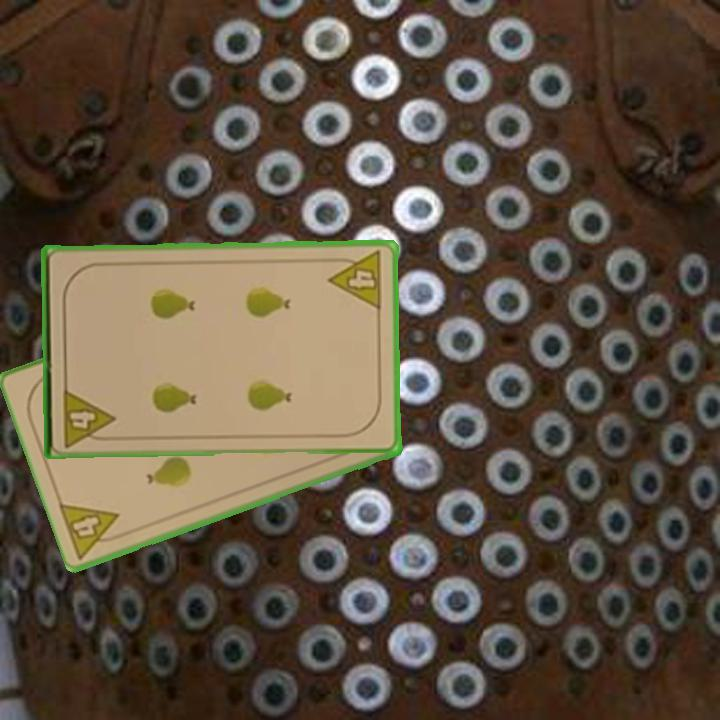4p: (55, 499, 131, 562), (325, 248, 386, 313), (59, 385, 117, 450)
